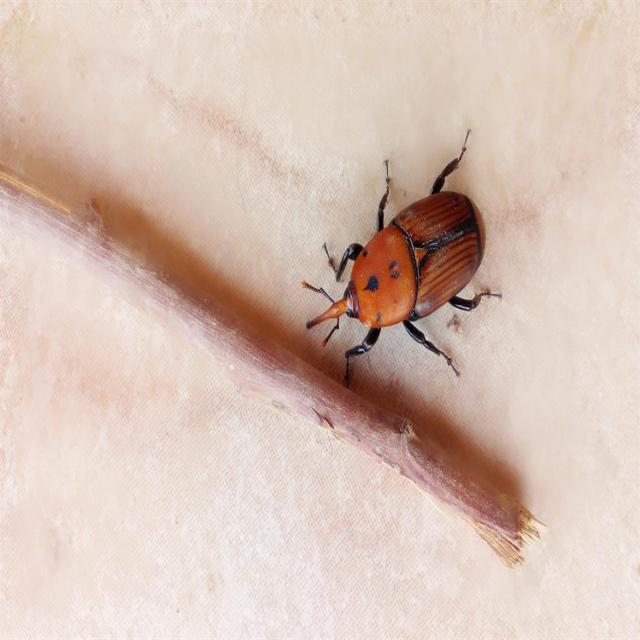Red-palm-weevil: (285, 154, 525, 384)
